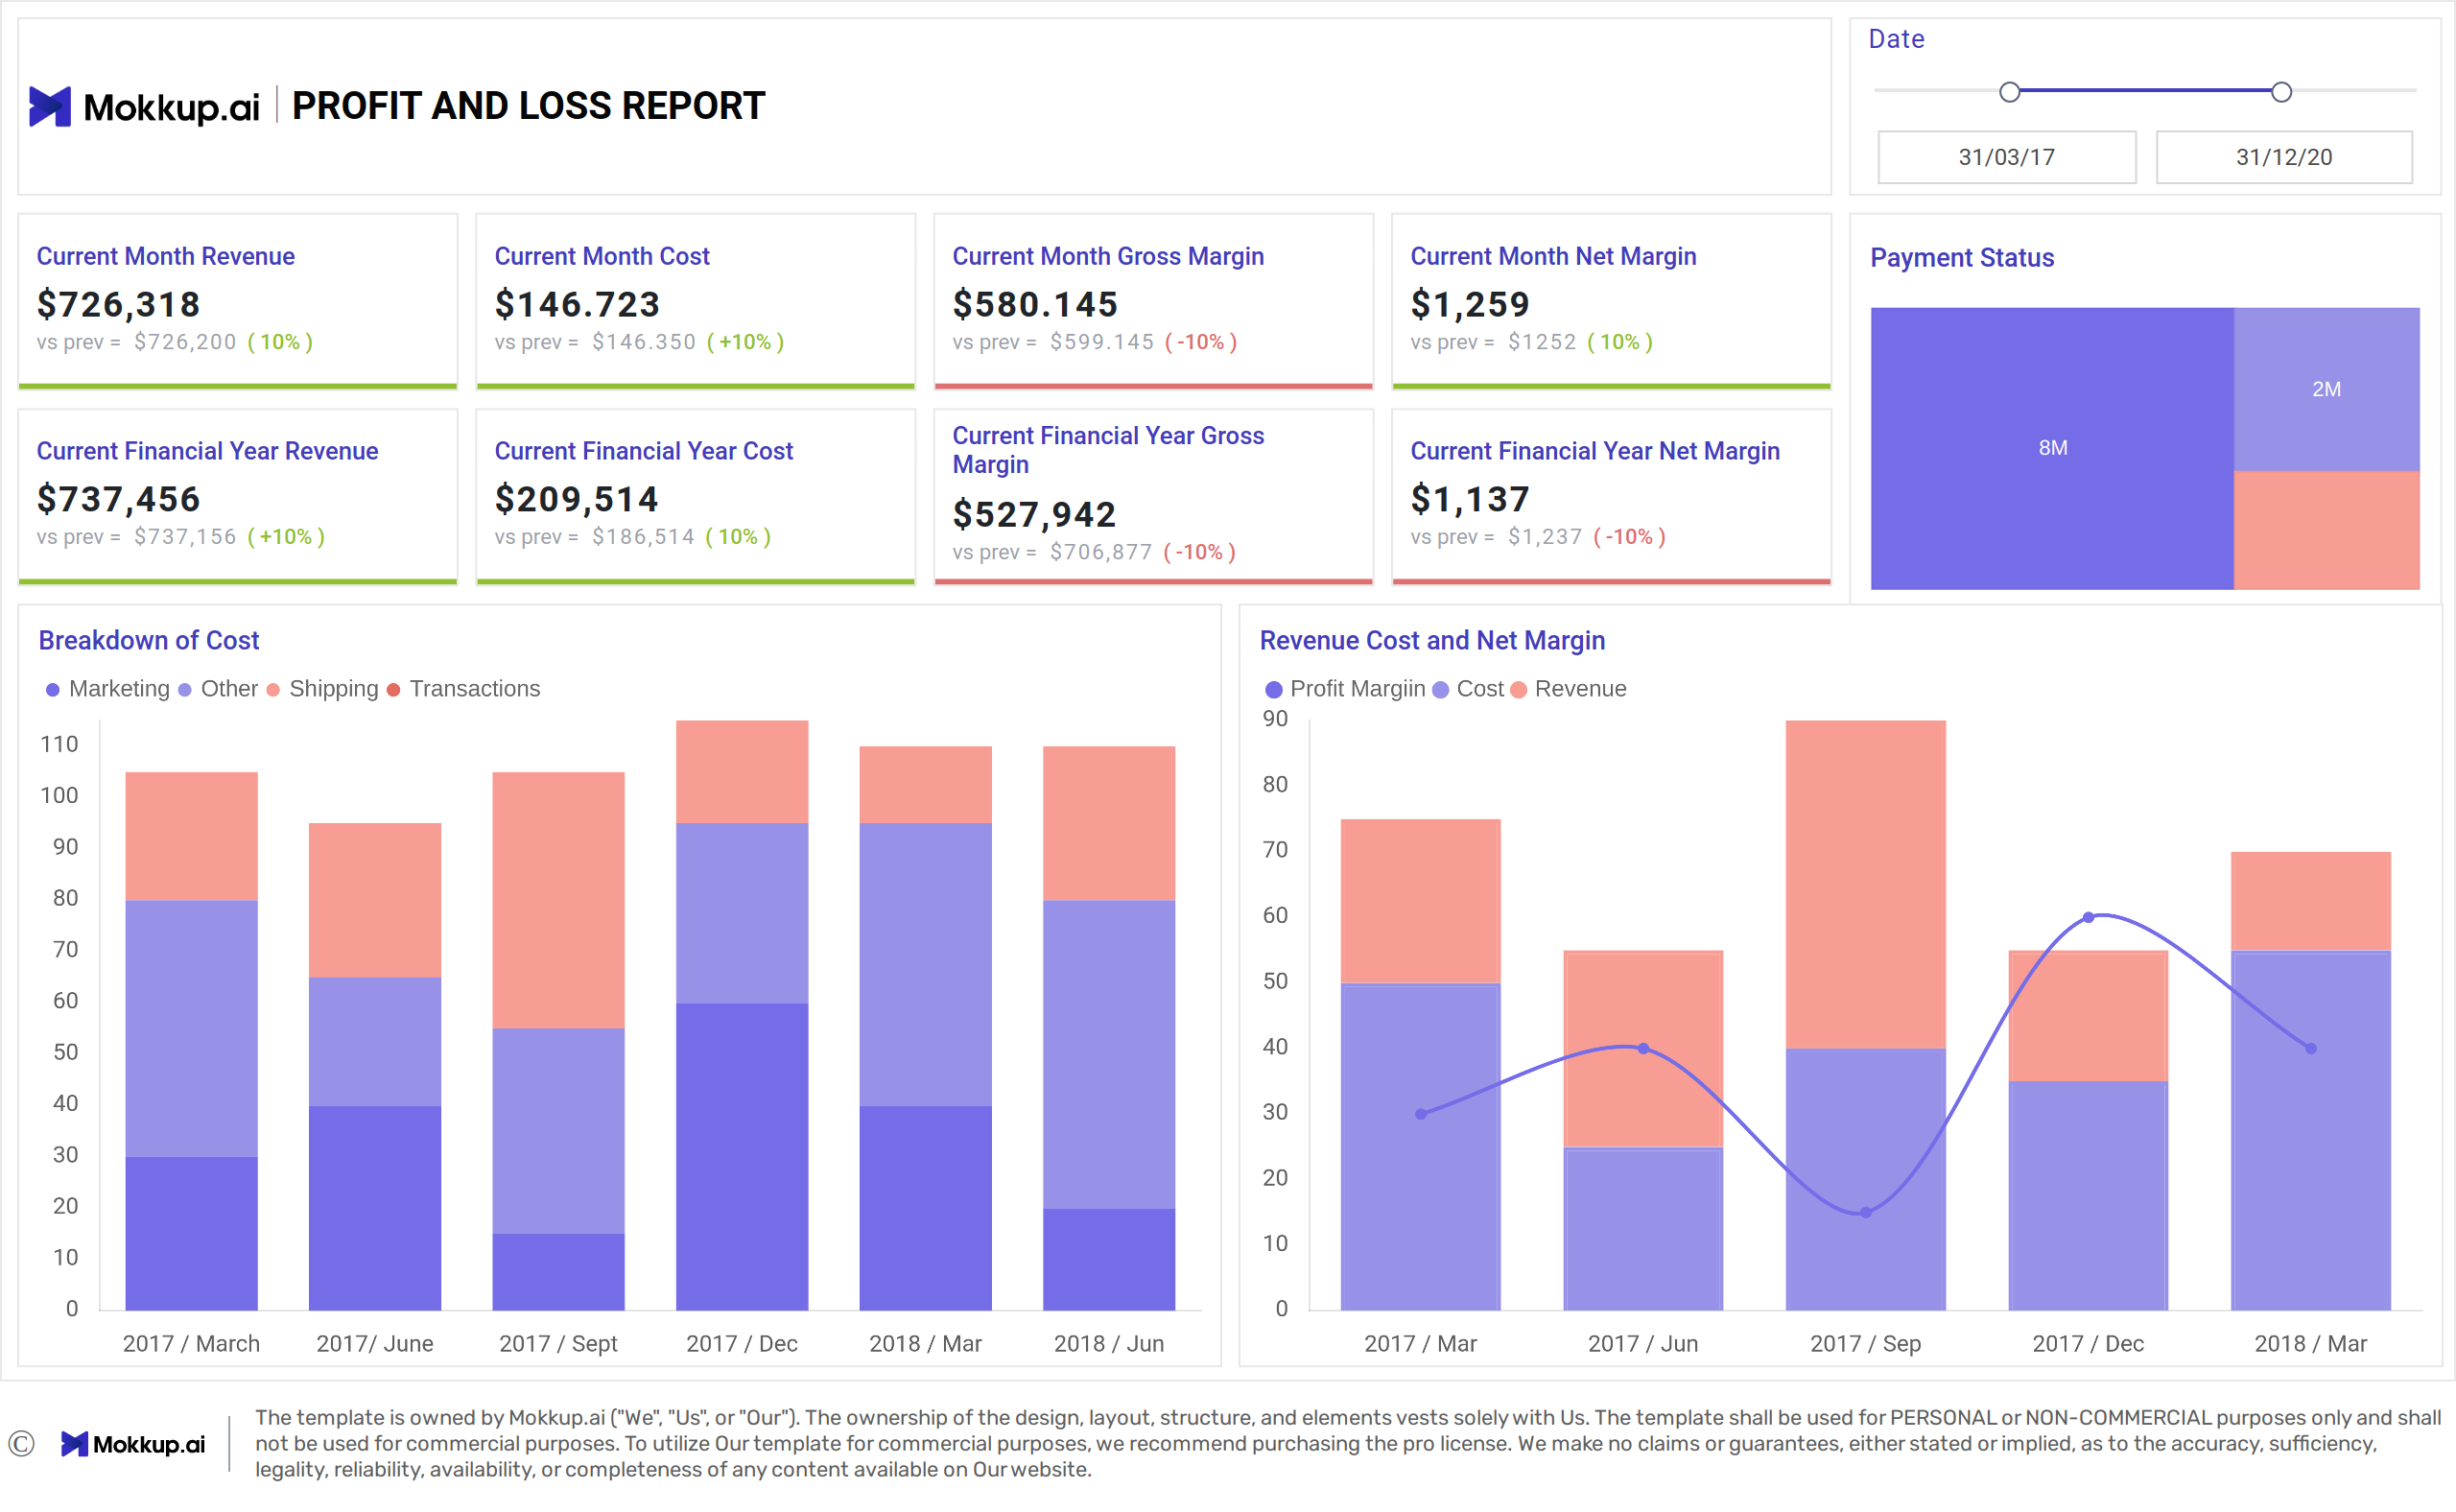

Layout of this report page (visuals, bound fields, positions):
{"tool":"powerbi","page":{"name":"Summary View","canvas":[1280,720],"ordinal":0},"visuals":[{"type":"group","id":"g1","title":"Group 1","box":[7,7,947.8,94.9],"z":0},{"type":"shape","box":[7,7,947.8,94.9],"z":0,"group":"g1"},{"type":"shape","box":[961.8,7,311.2,94.9],"z":0,"group":"g3"},{"type":"slicer","fields":{"Values":["Table0.filter"]},"box":[963.8,29,308.2,71.9],"z":0,"group":"g4"},{"type":"group","id":"g2","title":"Group 1","box":[8,31,945.8,46.6],"z":0,"group":"g1"},{"type":"shape","box":[7,109,231.7,94.9],"z":0,"group":"g5"},{"type":"shape","box":[245.7,109,231.7,94.9],"z":0,"group":"g8"},{"type":"shape","box":[484.4,109,231.7,94.9],"z":0,"group":"g11"},{"type":"shape","box":[723.1,109,231.7,94.9],"z":0,"group":"g14"},{"type":"shape","box":[961.8,109,311.2,213.7],"z":0,"group":"g27"},{"type":"shape","box":[7,211,231.7,94.9],"z":0,"group":"g16"},{"type":"shape","box":[245.7,211,231.7,94.9],"z":0,"group":"g19"},{"type":"shape","box":[484.4,211,231.7,94.9],"z":0,"group":"g22"},{"type":"shape","box":[723.1,211,231.7,94.9],"z":0,"group":"g24"},{"type":"shape","box":[7,312,629.5,400.4],"z":0,"group":"g28"},{"type":"shape","box":[643.5,312,629.5,400.4],"z":0,"group":"g29"},{"type":"shape","box":[8,31,945.8,46.6],"z":1,"group":"g2"},{"type":"treemap","title":"Title goes here","fields":{"Group":["Table9.piechart"],"Values":["Sum(Fact.treemap_fact)"]},"box":[962.8,140,308.2,180.7],"z":5,"group":"g27"},{"type":"columnChart","title":"Title goes here","fields":{"Category":["Table10.column"],"Y":["Sum(Fact.marketing)","Sum(Fact.other)","Sum(Fact.shipping)","Sum(Fact.transactions)"]},"box":[8,343,626.5,367.4],"z":5,"group":"g28"},{"type":"lineStackedColumnComboChart","title":"Title goes here","fields":{"Category":["Table11.combochart"],"Y":["Sum(Fact.combochart_0)","Sum(Fact.combochart_1)"],"Y2":["Sum(Fact.combochart)"]},"box":[644.5,343,626.5,367.4],"z":5,"group":"g29"},{"type":"group","id":"g3","title":"Group 1","box":[961.8,7,311.2,94.9],"z":10},{"type":"group","id":"g4","title":"Group 1","box":[962.8,8,308.2,94.9],"z":10,"group":"g3"},{"type":"shape","box":[963.8,9,308.2,20],"z":10,"group":"g4"},{"type":"group","id":"g5","title":"Group 1","box":[7,109,231.7,94.9],"z":20},{"type":"group","id":"g6","title":"Group 1","box":[8,124,227.7,62],"z":20,"group":"g5"},{"type":"group","id":"g7","title":"Group 1","box":[9,145,227.7,22],"z":20,"group":"g6"},{"type":"shape","box":[250.8,262.4,343.1,91.8],"z":20,"group":"g6"},{"type":"shape","box":[251.8,283.4,343.1,91.8],"z":20,"group":"g7"},{"type":"group","id":"g8","title":"Group 1","box":[245.7,109,231.7,94.9],"z":30},{"type":"group","id":"g9","title":"Group 1","box":[246.7,124,227.7,62],"z":30,"group":"g8"},{"type":"group","id":"g10","title":"Group 1","box":[247.7,145,227.7,22],"z":30,"group":"g9"},{"type":"shape","box":[489.5,262.4,343.1,91.8],"z":30,"group":"g9"},{"type":"shape","box":[490.5,283.4,343.1,91.8],"z":30,"group":"g10"},{"type":"group","id":"g11","title":"Group 1","box":[484.4,109,231.7,94.9],"z":40},{"type":"group","id":"g12","title":"Group 1","box":[485.4,124,227.7,62],"z":40,"group":"g11"},{"type":"group","id":"g13","title":"Group 1","box":[486.4,145,227.7,22],"z":40,"group":"g12"},{"type":"shape","box":[728.2,262.4,343.1,91.8],"z":40,"group":"g12"},{"type":"shape","box":[729.2,283.4,343.1,91.8],"z":40,"group":"g13"},{"type":"group","id":"g14","title":"Group 1","box":[723.1,109,231.7,94.9],"z":50},{"type":"group","id":"g15","title":"Group 1","box":[724.1,130,227.7,71.9],"z":50,"group":"g14"},{"type":"shape","box":[965.9,247.4,343.1,91.8],"z":50,"group":"g14"},{"type":"shape","box":[966.9,268.4,343.1,91.8],"z":50,"group":"g15"},{"type":"shape","box":[966.9,268.4,343.1,91.8],"z":50,"group":"g15"},{"type":"group","id":"g16","title":"Group 1","box":[7,211,231.7,94.9],"z":60},{"type":"group","id":"g17","title":"Group 1","box":[8,226,227.7,62],"z":60,"group":"g16"},{"type":"group","id":"g18","title":"Group 1","box":[9,247,227.7,22],"z":60,"group":"g17"},{"type":"shape","box":[250.8,364.4,343.1,91.8],"z":60,"group":"g17"},{"type":"shape","box":[251.8,385.4,343.1,91.8],"z":60,"group":"g18"},{"type":"group","id":"g19","title":"Group 1","box":[245.7,211,231.7,94.9],"z":70},{"type":"group","id":"g20","title":"Group 1","box":[246.7,226,227.7,62],"z":70,"group":"g19"},{"type":"group","id":"g21","title":"Group 1","box":[247.7,247,227.7,22],"z":70,"group":"g20"},{"type":"shape","box":[489.5,364.4,343.1,91.8],"z":70,"group":"g20"},{"type":"shape","box":[490.5,385.4,343.1,91.8],"z":70,"group":"g21"},{"type":"group","id":"g22","title":"Group 1","box":[484.4,211,231.7,94.9],"z":80},{"type":"group","id":"g23","title":"Group 1","box":[485.4,232,227.7,71.9],"z":80,"group":"g22"},{"type":"shape","box":[727.2,349.4,343.1,91.8],"z":80,"group":"g22"},{"type":"shape","box":[728.2,370.4,343.1,91.8],"z":80,"group":"g23"},{"type":"shape","box":[728.2,370.4,343.1,91.8],"z":80,"group":"g23"},{"type":"group","id":"g24","title":"Group 1","box":[723.1,211,231.7,94.9],"z":90},{"type":"group","id":"g25","title":"Group 1","box":[724.1,226,227.7,62],"z":90,"group":"g24"},{"type":"group","id":"g26","title":"Group 1","box":[725.1,247,227.7,22],"z":90,"group":"g25"},{"type":"shape","box":[966.9,364.4,343.1,91.8],"z":90,"group":"g25"},{"type":"shape","box":[967.9,385.4,343.1,91.8],"z":90,"group":"g26"},{"type":"group","id":"g27","title":"Group 1","box":[961.8,109,311.2,213.7],"z":100},{"type":"shape","box":[1204.6,247.4,343.1,91.8],"z":100,"group":"g27"},{"type":"group","id":"g28","title":"Group 1","box":[7,312,629.5,400.4],"z":110},{"type":"shape","box":[249.8,450.4,343.1,91.8],"z":110,"group":"g28"},{"type":"group","id":"g29","title":"Group 1","box":[643.5,312,629.5,400.4],"z":120},{"type":"shape","box":[886.3,450.4,343.1,91.8],"z":120,"group":"g29"},{"type":"shape","box":[249.8,247.4,343.1,91.8],"z":1000,"group":"g5"},{"type":"shape","box":[488.5,247.4,343.1,91.8],"z":1000,"group":"g8"},{"type":"shape","box":[727.2,247.4,343.1,91.8],"z":1000,"group":"g11"},{"type":"shape","box":[965.9,247.4,343.1,91.8],"z":1000,"group":"g14"},{"type":"card","fields":{"Values":["Max(Table4.current_value)"]},"box":[966.9,268.4,343.1,91.8],"z":1000,"group":"g15"},{"type":"card","fields":{"Values":["Max(Table4.previous_value)"]},"box":[966.9,268.4,343.1,91.8],"z":1000,"group":"g15"},{"type":"card","fields":{"Values":["Max(Table4.percent_change)"]},"box":[966.9,268.4,343.1,91.8],"z":1000,"group":"g15"},{"type":"card","fields":{"Values":["Max(Table1.current_value)"]},"box":[251.8,283.4,343.1,91.8],"z":1000,"group":"g7"},{"type":"card","fields":{"Values":["Max(Table1.previous_value)"]},"box":[251.8,283.4,343.1,91.8],"z":1000,"group":"g7"},{"type":"card","fields":{"Values":["Max(Table1.percent_change)"]},"box":[251.8,283.4,343.1,91.8],"z":1000,"group":"g7"},{"type":"card","fields":{"Values":["Max(Table2.current_value)"]},"box":[490.5,283.4,343.1,91.8],"z":1000,"group":"g10"},{"type":"card","fields":{"Values":["Max(Table2.previous_value)"]},"box":[490.5,283.4,343.1,91.8],"z":1000,"group":"g10"},{"type":"card","fields":{"Values":["Max(Table2.percent_change)"]},"box":[490.5,283.4,343.1,91.8],"z":1000,"group":"g10"},{"type":"card","fields":{"Values":["Max(Table3.current_value)"]},"box":[729.2,283.4,343.1,91.8],"z":1000,"group":"g13"},{"type":"card","fields":{"Values":["Max(Table3.previous_value)"]},"box":[729.2,283.4,343.1,91.8],"z":1000,"group":"g13"},{"type":"card","fields":{"Values":["Max(Table3.percent_change)"]},"box":[729.2,283.4,343.1,91.8],"z":1000,"group":"g13"},{"type":"shape","box":[249.8,349.4,343.1,91.8],"z":1000,"group":"g16"},{"type":"shape","box":[488.5,349.4,343.1,91.8],"z":1000,"group":"g19"},{"type":"shape","box":[727.2,349.4,343.1,91.8],"z":1000,"group":"g22"},{"type":"shape","box":[965.9,349.4,343.1,91.8],"z":1000,"group":"g24"},{"type":"card","fields":{"Values":["Max(Table7.current_value)"]},"box":[728.2,370.4,343.1,91.8],"z":1000,"group":"g23"},{"type":"card","fields":{"Values":["Max(Table7.previous_value)"]},"box":[728.2,370.4,343.1,91.8],"z":1000,"group":"g23"},{"type":"card","fields":{"Values":["Max(Table7.percent_change)"]},"box":[728.2,370.4,343.1,91.8],"z":1000,"group":"g23"},{"type":"card","fields":{"Values":["Max(Table5.current_value)"]},"box":[251.8,385.4,343.1,91.8],"z":1000,"group":"g18"},{"type":"card","fields":{"Values":["Max(Table5.previous_value)"]},"box":[251.8,385.4,343.1,91.8],"z":1000,"group":"g18"},{"type":"card","fields":{"Values":["Max(Table5.percent_change)"]},"box":[251.8,385.4,343.1,91.8],"z":1000,"group":"g18"},{"type":"card","fields":{"Values":["Max(Table6.current_value)"]},"box":[490.5,385.4,343.1,91.8],"z":1000,"group":"g21"},{"type":"card","fields":{"Values":["Max(Table6.previous_value)"]},"box":[490.5,385.4,343.1,91.8],"z":1000,"group":"g21"},{"type":"card","fields":{"Values":["Max(Table6.percent_change)"]},"box":[490.5,385.4,343.1,91.8],"z":1000,"group":"g21"},{"type":"card","fields":{"Values":["Max(Table8.current_value)"]},"box":[967.9,385.4,343.1,91.8],"z":1000,"group":"g26"},{"type":"card","fields":{"Values":["Max(Table8.previous_value)"]},"box":[967.9,385.4,343.1,91.8],"z":1000,"group":"g26"},{"type":"card","fields":{"Values":["Max(Table8.percent_change)"]},"box":[967.9,385.4,343.1,91.8],"z":1000,"group":"g26"}]}

Visuals, with their boxes on the page's 1280x720 design canvas (x1, y1, x2, y2). These are canvas units, not pixel positions in the 2456x1512 screenshot, which may show the page scaled, cropped or inside an application window:
"Group 1" group: box(7, 7, 955, 102)
shape: box(7, 7, 955, 102)
shape: box(962, 7, 1273, 102)
slicer - Table0.filter: box(964, 29, 1272, 101)
"Group 1" group: box(8, 31, 954, 78)
shape: box(7, 109, 239, 204)
shape: box(246, 109, 477, 204)
shape: box(484, 109, 716, 204)
shape: box(723, 109, 955, 204)
shape: box(962, 109, 1273, 323)
shape: box(7, 211, 239, 306)
shape: box(246, 211, 477, 306)
shape: box(484, 211, 716, 306)
shape: box(723, 211, 955, 306)
shape: box(7, 312, 636, 712)
shape: box(644, 312, 1273, 712)
shape: box(8, 31, 954, 78)
"Title goes here" treemap: box(963, 140, 1271, 321)
"Title goes here" columnChart: box(8, 343, 634, 710)
"Title goes here" lineStackedColumnComboChart: box(644, 343, 1271, 710)
"Group 1" group: box(962, 7, 1273, 102)
"Group 1" group: box(963, 8, 1271, 103)
shape: box(964, 9, 1272, 29)
"Group 1" group: box(7, 109, 239, 204)
"Group 1" group: box(8, 124, 236, 186)
"Group 1" group: box(9, 145, 237, 167)
shape: box(251, 262, 594, 354)
shape: box(252, 283, 595, 375)
"Group 1" group: box(246, 109, 477, 204)
"Group 1" group: box(247, 124, 474, 186)
"Group 1" group: box(248, 145, 475, 167)
shape: box(490, 262, 833, 354)
shape: box(490, 283, 834, 375)
"Group 1" group: box(484, 109, 716, 204)
"Group 1" group: box(485, 124, 713, 186)
"Group 1" group: box(486, 145, 714, 167)
shape: box(728, 262, 1071, 354)
shape: box(729, 283, 1072, 375)
"Group 1" group: box(723, 109, 955, 204)
"Group 1" group: box(724, 130, 952, 202)
shape: box(966, 247, 1309, 339)
shape: box(967, 268, 1310, 360)
shape: box(967, 268, 1310, 360)
"Group 1" group: box(7, 211, 239, 306)
"Group 1" group: box(8, 226, 236, 288)
"Group 1" group: box(9, 247, 237, 269)
shape: box(251, 364, 594, 456)
shape: box(252, 385, 595, 477)
"Group 1" group: box(246, 211, 477, 306)
"Group 1" group: box(247, 226, 474, 288)
"Group 1" group: box(248, 247, 475, 269)
shape: box(490, 364, 833, 456)
shape: box(490, 385, 834, 477)
"Group 1" group: box(484, 211, 716, 306)
"Group 1" group: box(485, 232, 713, 304)
shape: box(727, 349, 1070, 441)
shape: box(728, 370, 1071, 462)
shape: box(728, 370, 1071, 462)
"Group 1" group: box(723, 211, 955, 306)
"Group 1" group: box(724, 226, 952, 288)
"Group 1" group: box(725, 247, 953, 269)
shape: box(967, 364, 1310, 456)
shape: box(968, 385, 1311, 477)
"Group 1" group: box(962, 109, 1273, 323)
shape: box(1205, 247, 1548, 339)
"Group 1" group: box(7, 312, 636, 712)
shape: box(250, 450, 593, 542)
"Group 1" group: box(644, 312, 1273, 712)
shape: box(886, 450, 1229, 542)
shape: box(250, 247, 593, 339)
shape: box(488, 247, 832, 339)
shape: box(727, 247, 1070, 339)
shape: box(966, 247, 1309, 339)
card - Max(Table4.current_value): box(967, 268, 1310, 360)
card - Max(Table4.previous_value): box(967, 268, 1310, 360)
card - Max(Table4.percent_change): box(967, 268, 1310, 360)
card - Max(Table1.current_value): box(252, 283, 595, 375)
card - Max(Table1.previous_value): box(252, 283, 595, 375)
card - Max(Table1.percent_change): box(252, 283, 595, 375)
card - Max(Table2.current_value): box(490, 283, 834, 375)
card - Max(Table2.previous_value): box(490, 283, 834, 375)
card - Max(Table2.percent_change): box(490, 283, 834, 375)
card - Max(Table3.current_value): box(729, 283, 1072, 375)
card - Max(Table3.previous_value): box(729, 283, 1072, 375)
card - Max(Table3.percent_change): box(729, 283, 1072, 375)
shape: box(250, 349, 593, 441)
shape: box(488, 349, 832, 441)
shape: box(727, 349, 1070, 441)
shape: box(966, 349, 1309, 441)
card - Max(Table7.current_value): box(728, 370, 1071, 462)
card - Max(Table7.previous_value): box(728, 370, 1071, 462)
card - Max(Table7.percent_change): box(728, 370, 1071, 462)
card - Max(Table5.current_value): box(252, 385, 595, 477)
card - Max(Table5.previous_value): box(252, 385, 595, 477)
card - Max(Table5.percent_change): box(252, 385, 595, 477)
card - Max(Table6.current_value): box(490, 385, 834, 477)
card - Max(Table6.previous_value): box(490, 385, 834, 477)
card - Max(Table6.percent_change): box(490, 385, 834, 477)
card - Max(Table8.current_value): box(968, 385, 1311, 477)
card - Max(Table8.previous_value): box(968, 385, 1311, 477)
card - Max(Table8.percent_change): box(968, 385, 1311, 477)
